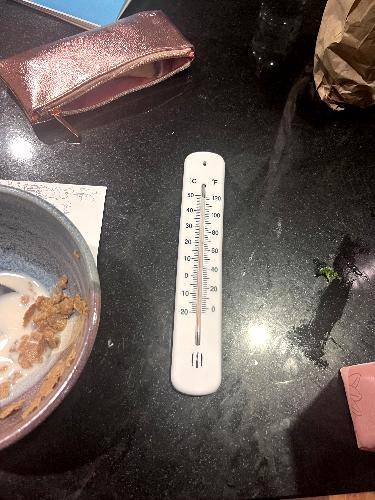thermo: (169, 152, 227, 392)
